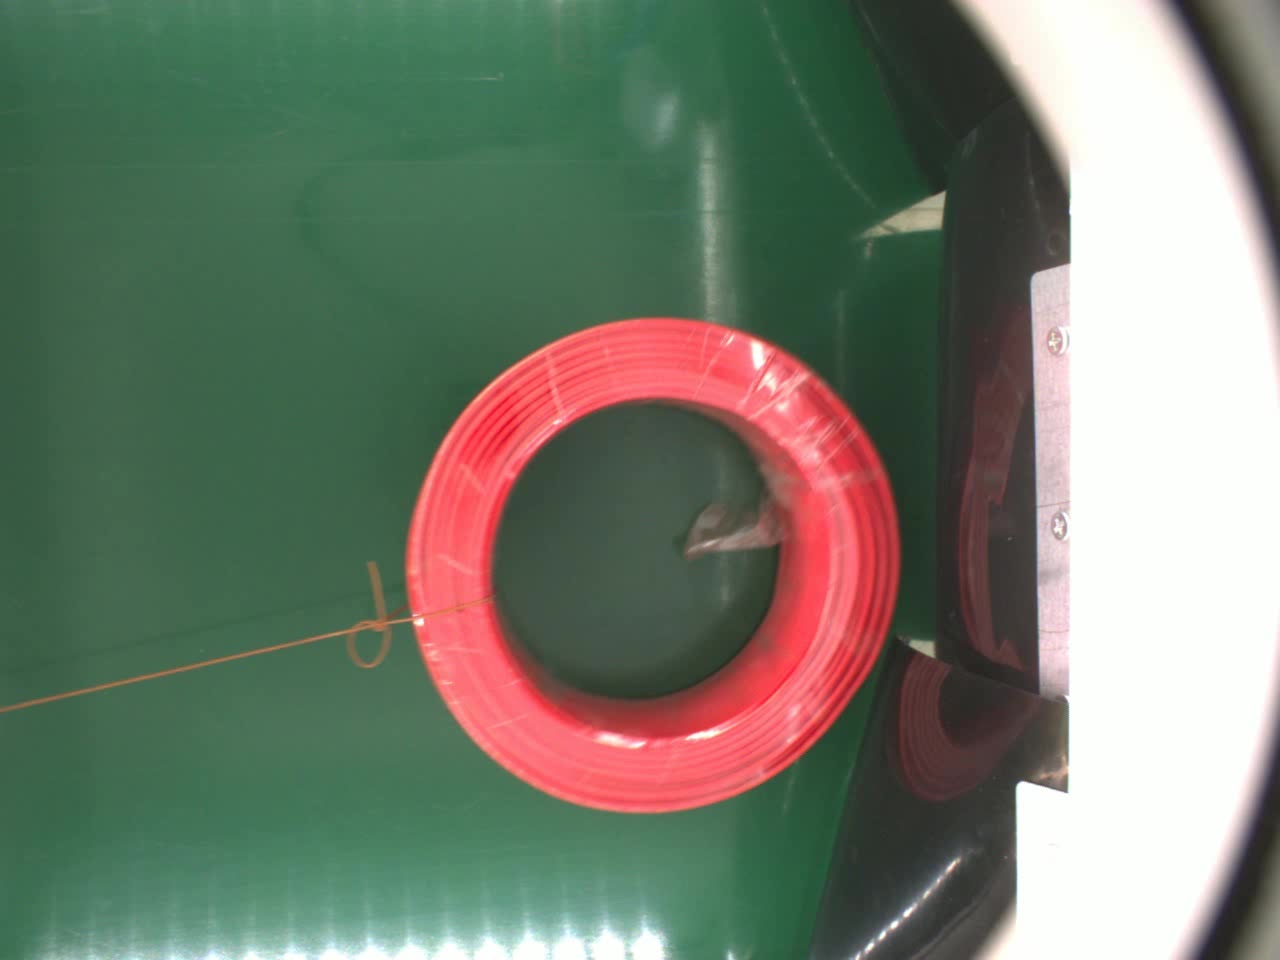red: (406, 309, 902, 815)
